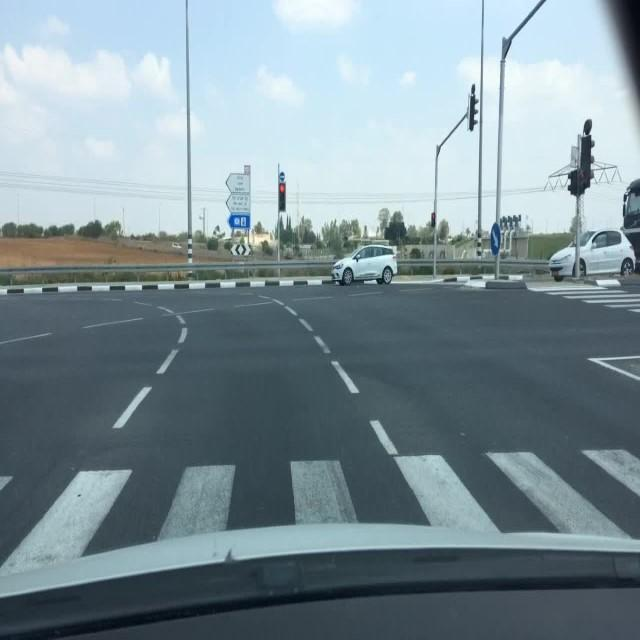normal: (322, 220, 402, 293)
